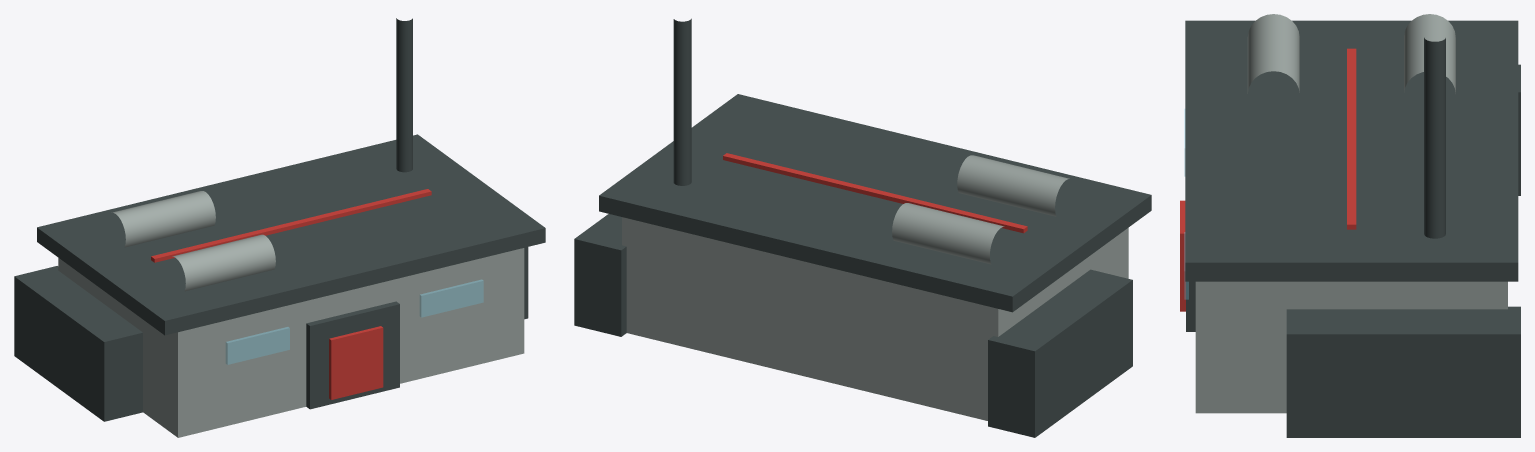
The model's file is fortis-habitat.glb.
The picture shows the model from 3 angles, left to right: view 1: azimuth 30°, elevation 25°; view 2: azimuth 150°, elevation 25°; view 3: azimuth 270°, elevation 25°; orthographic projection. The views are drawn at different scales.
Parts seen in each view (by area): view 1: hab_roof_armor, hab_main_bay, hab_left_buttress, hab_door_frame, hab_roof_tank_b, hab_roof_tank_a, hab_door_red, hab_comms_mast, hab_red_spine, hab_window_strip_r, hab_window_strip_l; view 2: hab_roof_armor, hab_main_bay, hab_left_buttress, hab_right_buttress, hab_roof_tank_b, hab_roof_tank_a, hab_comms_mast, hab_red_spine; view 3: hab_roof_armor, hab_right_buttress, hab_main_bay, hab_comms_mast, hab_roof_tank_b, hab_roof_tank_a, hab_red_spine, hab_door_red, hab_door_frame, hab_left_buttress.
Part boxes in pixels (bbox=[...]): hab_roof_armor: bbox=[37, 134, 545, 335]; hab_main_bay: bbox=[58, 248, 524, 437]; hab_left_buttress: bbox=[14, 266, 142, 421]; hab_door_frame: bbox=[306, 301, 399, 409]; hab_roof_tank_b: bbox=[172, 234, 275, 291]; hab_roof_tank_a: bbox=[111, 191, 215, 247]; hab_door_red: bbox=[329, 326, 383, 399]; hab_comms_mast: bbox=[396, 18, 412, 172]; hab_red_spine: bbox=[151, 189, 431, 262]; hab_window_strip_r: bbox=[420, 279, 483, 317]; hab_window_strip_l: bbox=[226, 327, 289, 364]; hab_roof_armor: bbox=[599, 94, 1151, 312]; hab_main_bay: bbox=[622, 217, 1128, 420]; hab_left_buttress: bbox=[988, 269, 1132, 437]; hab_right_buttress: bbox=[574, 214, 626, 336]; hab_roof_tank_b: bbox=[957, 155, 1069, 216]; hab_roof_tank_a: bbox=[892, 203, 1004, 264]; hab_comms_mast: bbox=[673, 18, 691, 185]; hab_red_spine: bbox=[723, 153, 1027, 233]; hab_roof_armor: bbox=[1185, 20, 1518, 281]; hab_right_buttress: bbox=[1286, 306, 1520, 437]; hab_main_bay: bbox=[1195, 281, 1507, 413]; hab_comms_mast: bbox=[1424, 37, 1445, 238]; hab_roof_tank_b: bbox=[1247, 14, 1299, 93]; hab_roof_tank_a: bbox=[1404, 14, 1455, 93]; hab_red_spine: bbox=[1347, 48, 1356, 229]; hab_door_red: bbox=[1180, 200, 1185, 311]; hab_door_frame: bbox=[1186, 281, 1195, 331]; hab_left_buttress: bbox=[1518, 64, 1520, 195].
Size of the model in its own units: 24.5 by 15.2 by 13.1.
